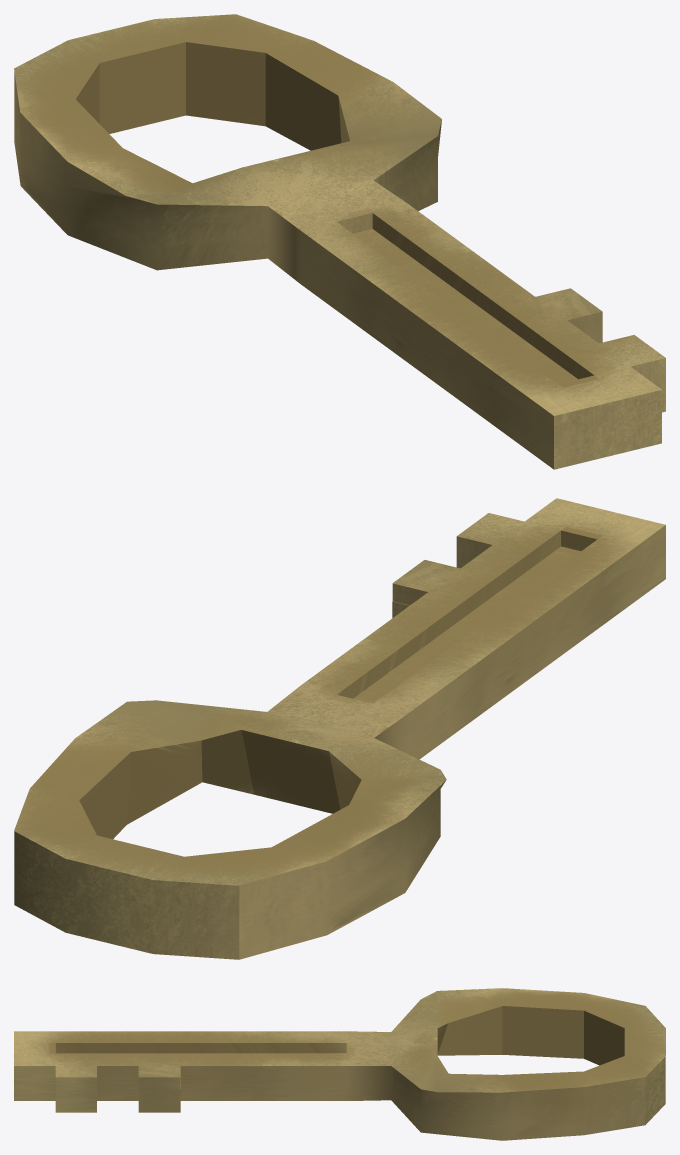
File: Key.fbx
The picture shows the model from 3 angles, top to bottom: view 1: azimuth 30°, elevation 25°; view 2: azimuth 150°, elevation 25°; view 3: azimuth 270°, elevation 25°; orthographic projection. The views are drawn at different scales.
Parts seen in each view (by area): view 1: pCube1; view 2: pCube1; view 3: pCube1.
Part boxes in pixels (<box>): pCube1: <box>14,14,665,469</box>; pCube1: <box>14,498,665,959</box>; pCube1: <box>14,988,665,1140</box>.
Size of the model in its own units: 6.36 by 1.37 by 16.78.
Materials: 1 (1 with a texture image).
